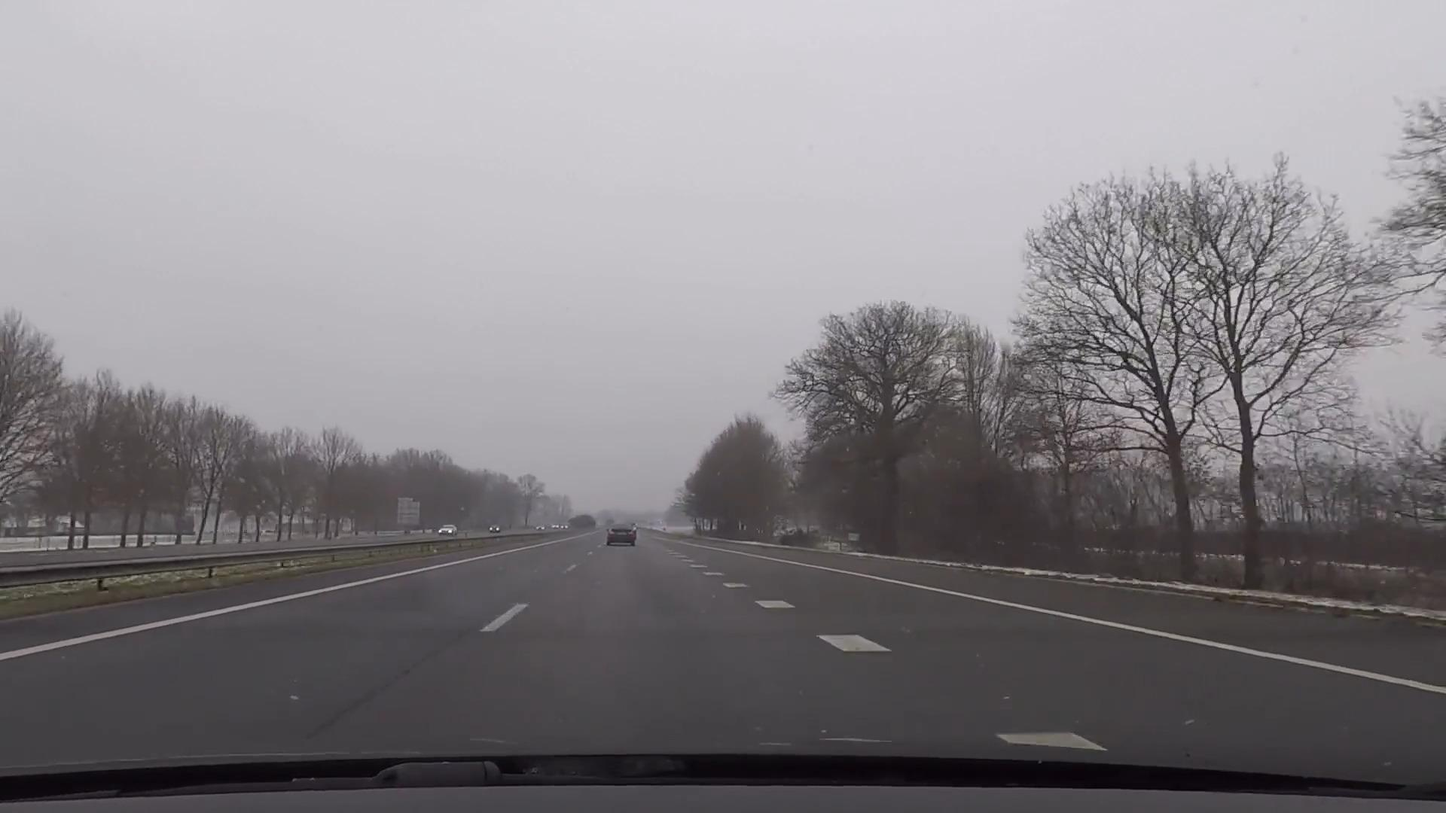dry: (0, 527, 1446, 772)
